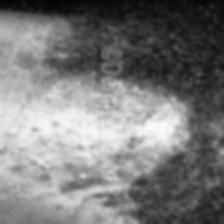Toxin: (14, 76, 188, 177)
